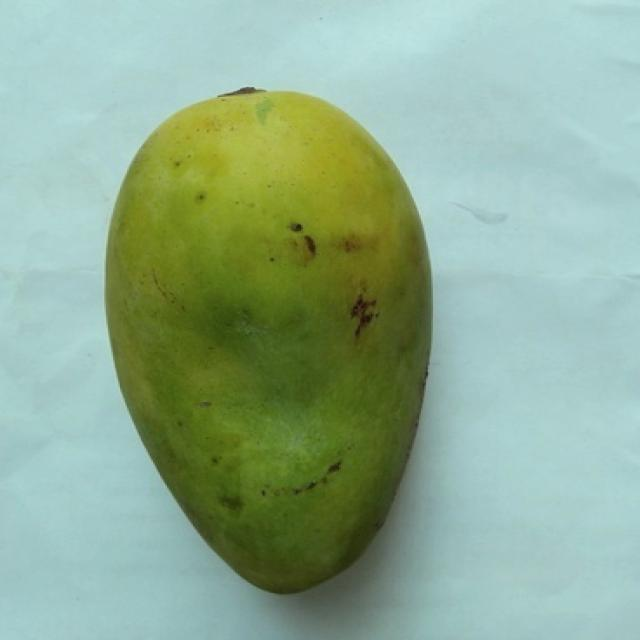Mango: (104, 90, 431, 590)
